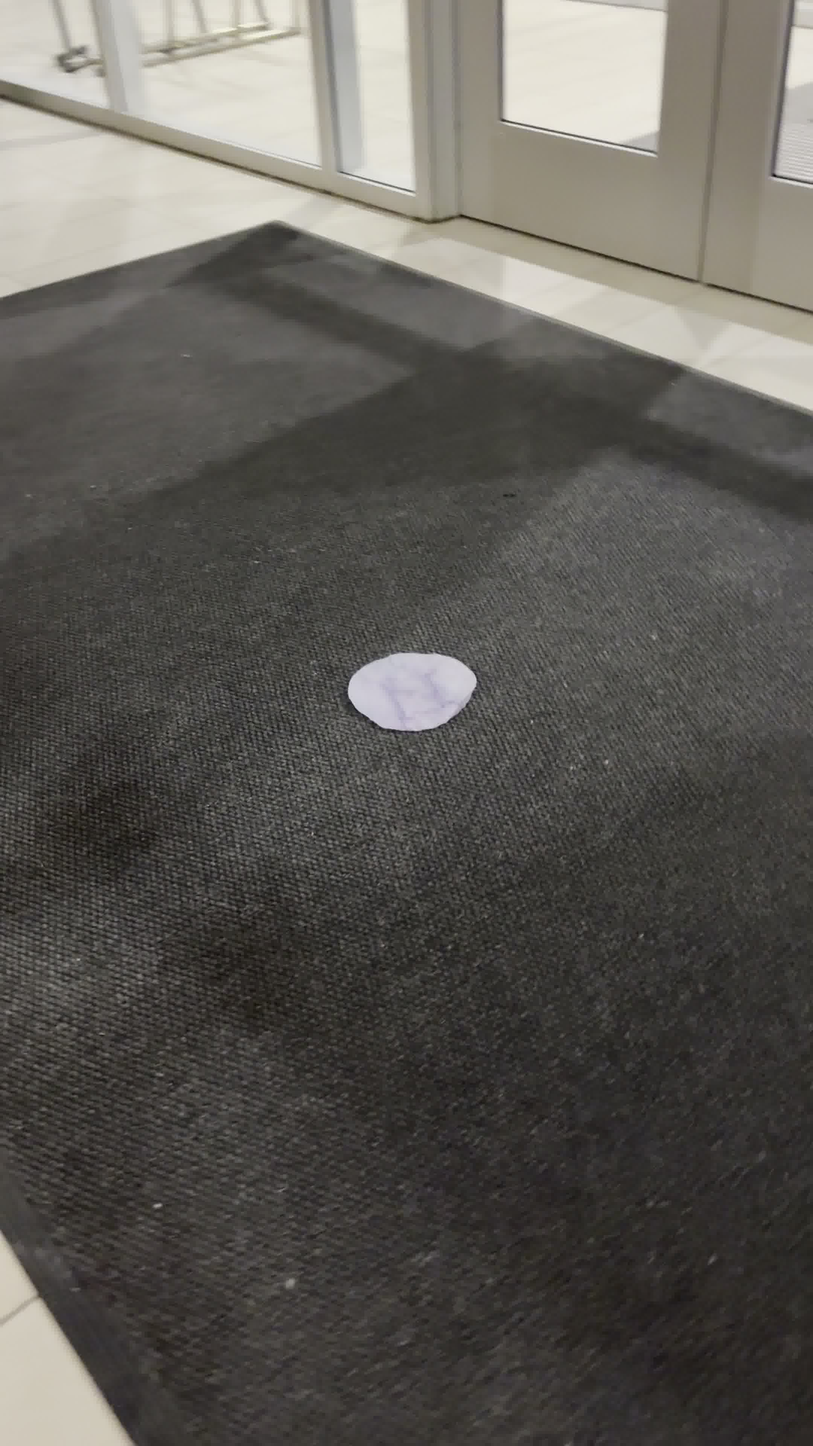Target: (348, 653, 477, 732)
